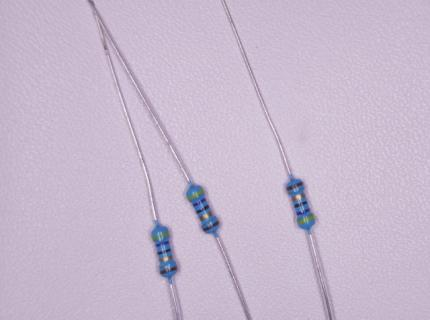Gold band: (198, 210, 214, 221), (291, 193, 306, 202), (159, 255, 173, 263)
Violet band: (193, 198, 207, 208), (295, 208, 311, 216), (155, 240, 170, 248)
Yellow band: (187, 189, 204, 201), (297, 215, 316, 225), (151, 231, 170, 239)
